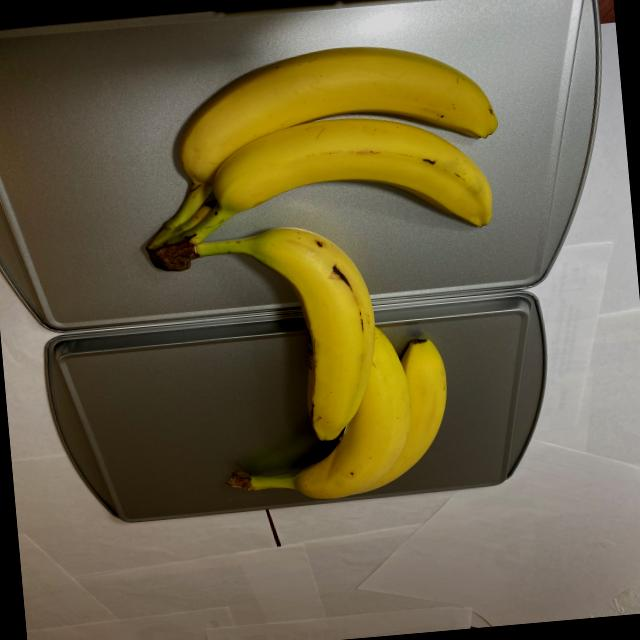banana: (130, 28, 540, 510)
